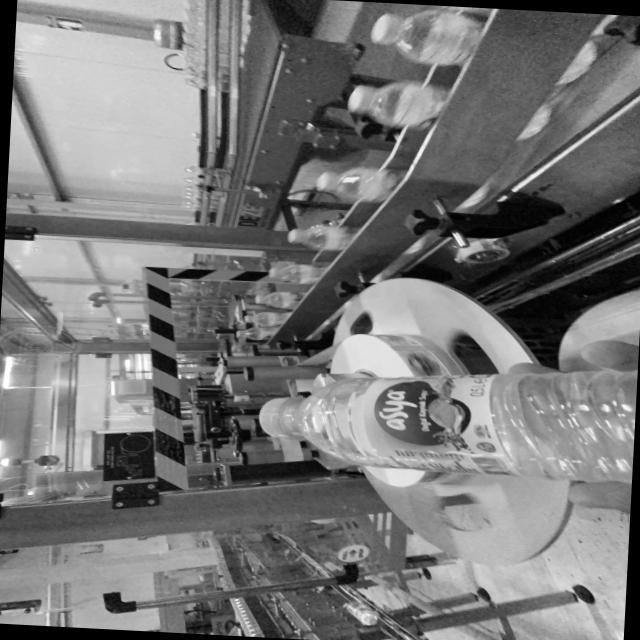good: (262, 344, 638, 494)
